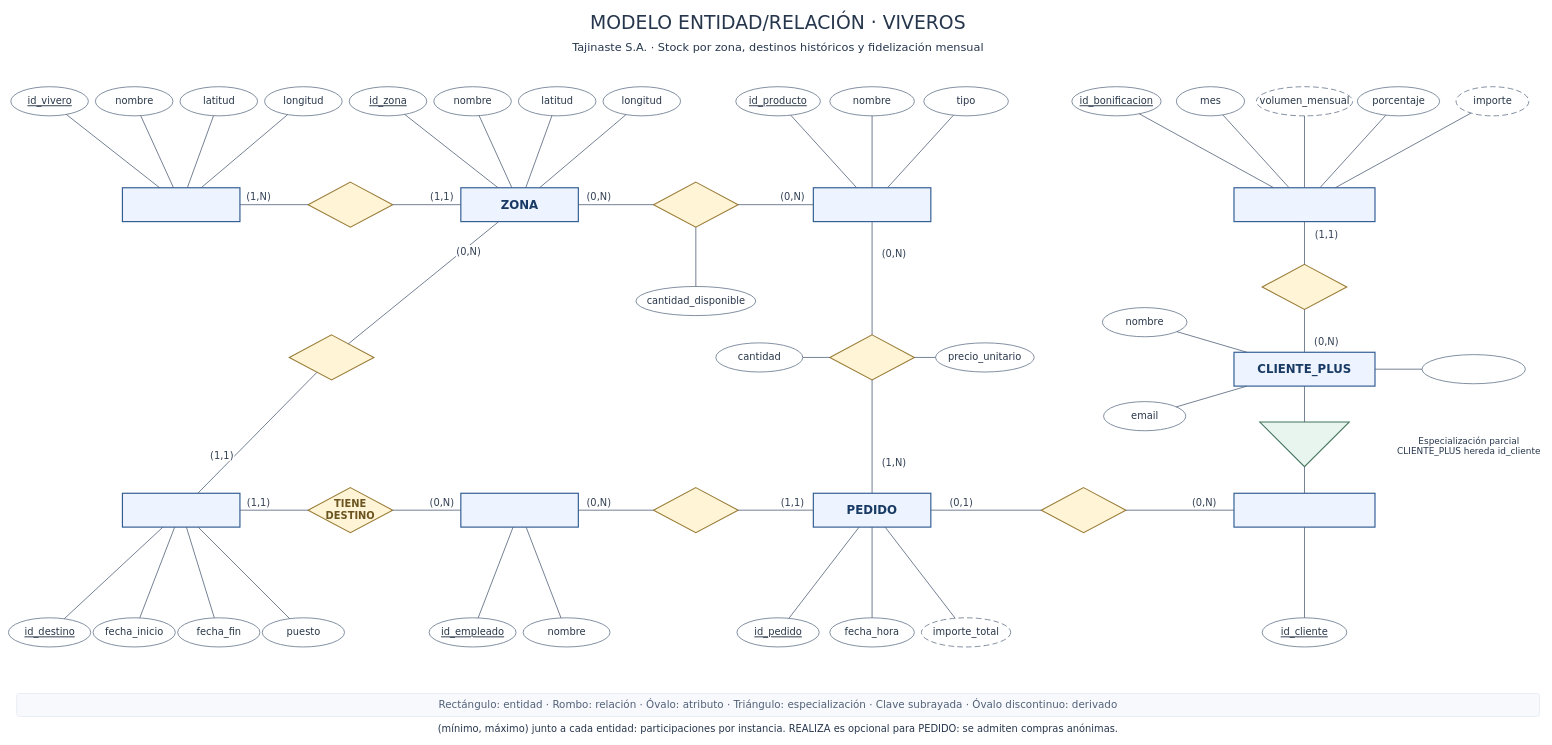
Image size: 1552x745. Some labels were removed from this diagram. The centre of each missing label's shape, as x and y in pixels:
"ALMACENA" belongs at (695,204).
"BONIFICACION MENSUAL" belongs at (1304,204).
"CLIENTE" belongs at (1304,509).
"CONTIENE" belongs at (350,204).
"DESTINO" belongs at (181,509).
"EMPLEADO" belongs at (519,509).
"ES_UN" belongs at (1304,444).
"fecha_ingreso" belongs at (1473,369).
"GESTIONA" belongs at (695,510).
"INCLUYE" belongs at (872,357).
"PRODUCTO" belongs at (872,204).
"REALIZA" belongs at (1083,510).
"RECIBE" belongs at (1304,287).
"UBICA" belongs at (331,357).
"VIVERO" belongs at (181,204).
